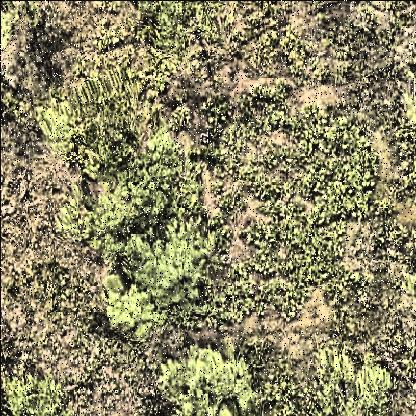tree-top: (94, 222, 240, 336), (149, 348, 261, 416), (118, 137, 206, 214), (312, 355, 410, 415), (50, 190, 126, 254), (2, 367, 67, 416)
